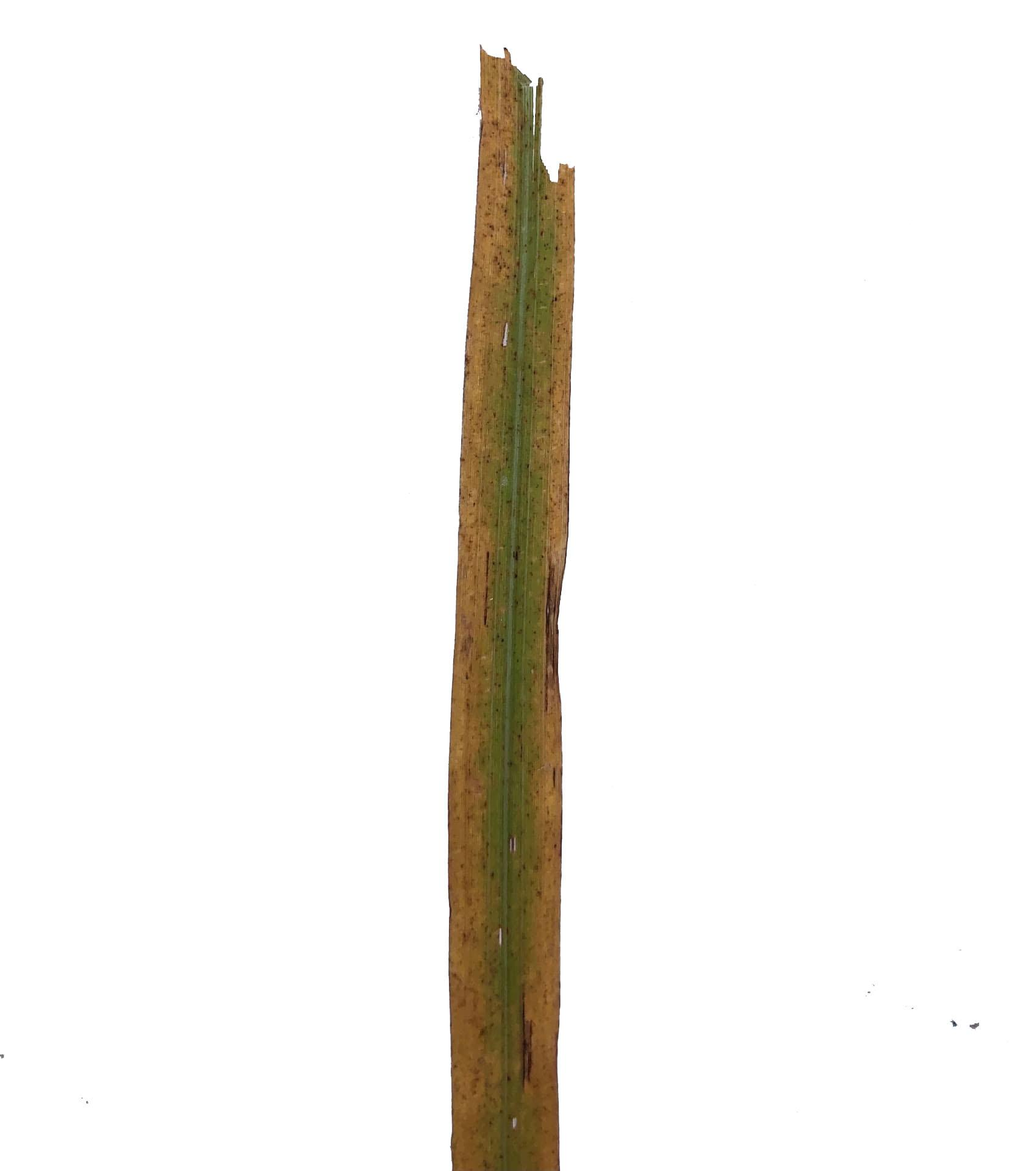Tungro: (446, 51, 578, 1171)
